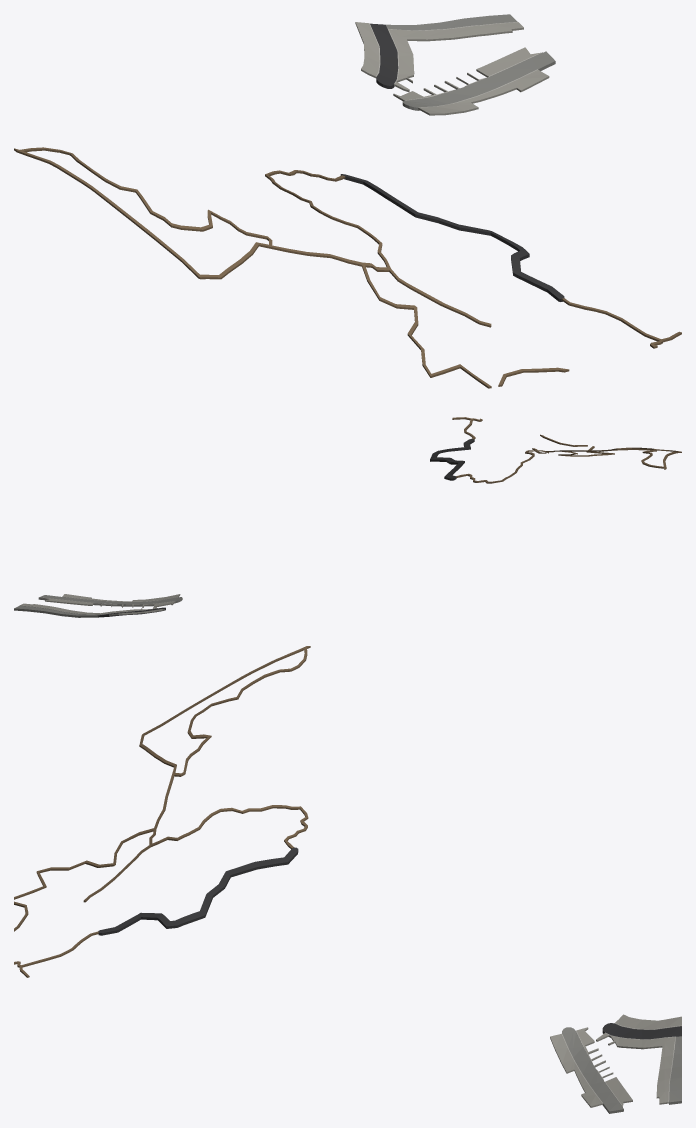
Rendered from 17-109440-59488.de7eed22.glb.
The picture shows the model from 3 angles, top to bottom: view 1: azimuth 30°, elevation 25°; view 2: azimuth 150°, elevation 25°; view 3: azimuth 270°, elevation 25°; orthographic projection. The views are drawn at different scales.
Size of the model in its own units: 293 by 89.64 by 292.
